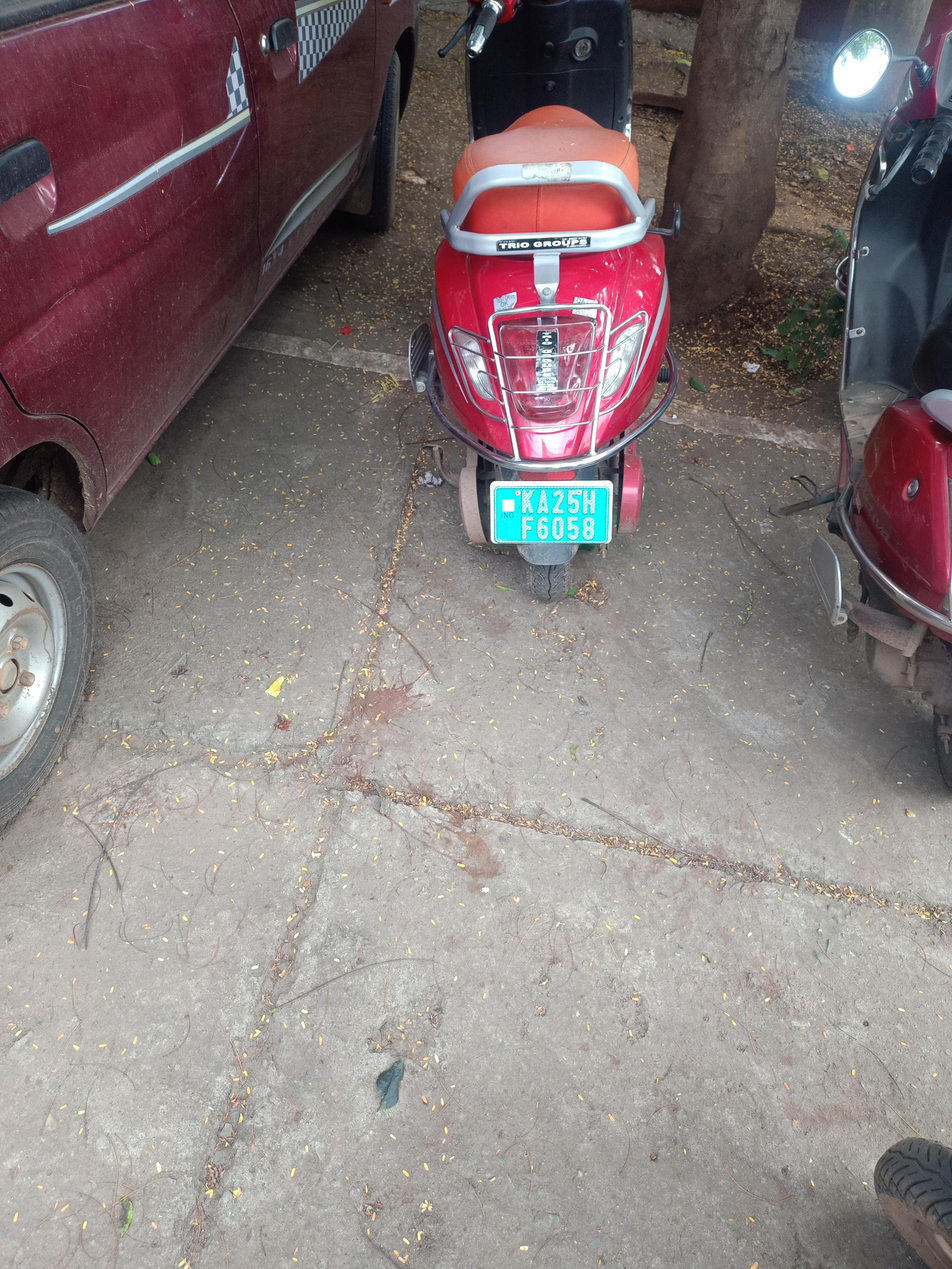green license plate: (476, 477, 618, 551)
